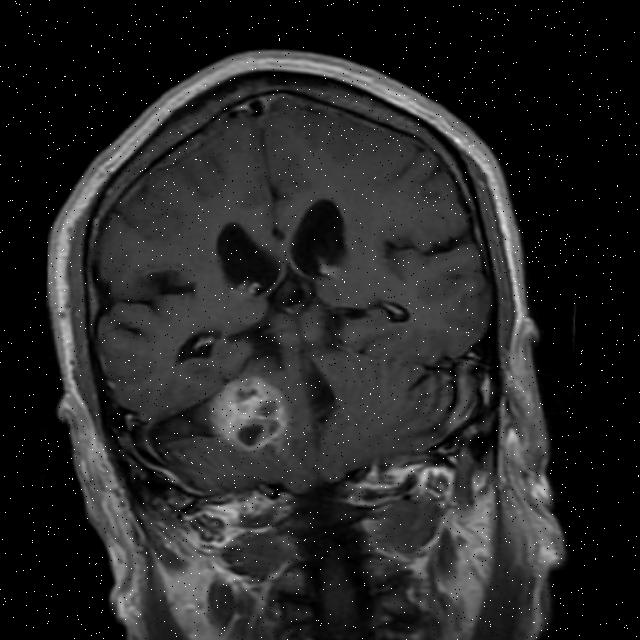Meningioma: (200, 366, 298, 459)
